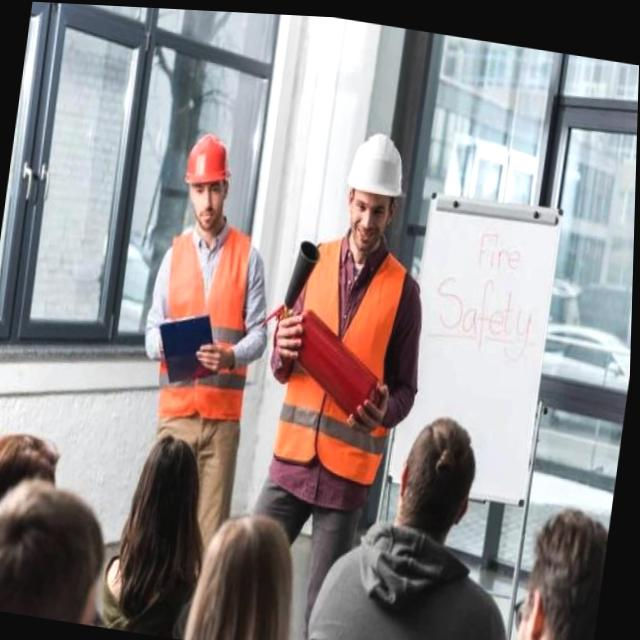FireExtinguisher: (250, 220, 409, 431)
